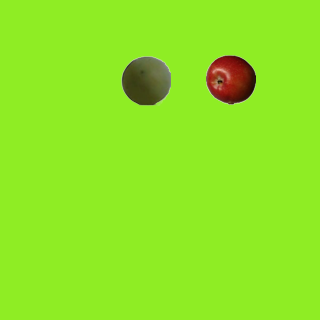Apple Braeburn: (205, 54, 255, 104)
Grape White 4: (120, 55, 170, 105)
